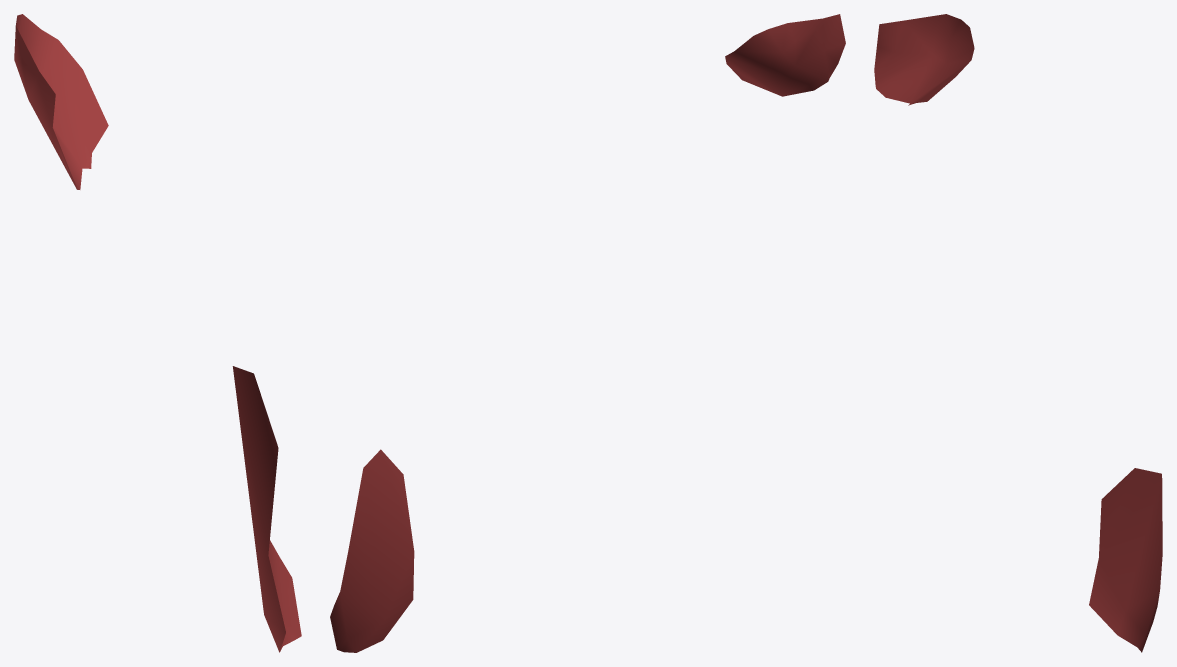
Rendered from longissimus-thoracis-muscle-e2r.glb.
3 views of the same model, side by side, from view 1: azimuth 30°, elevation 25°; view 2: azimuth 150°, elevation 25°; view 3: azimuth 270°, elevation 25° (orthographic). The views are drawn at different scales.
Parts seen in each view (by area): view 1: Longissimus thoracis muscle.e2r; view 2: Longissimus thoracis muscle.e2r; view 3: Longissimus thoracis muscle.e2r.
Boxes of the visible parts, <box> form: Longissimus thoracis muscle.e2r: <box>14,14,301,652</box>; Longissimus thoracis muscle.e2r: <box>330,14,845,652</box>; Longissimus thoracis muscle.e2r: <box>874,14,1162,652</box>.
Size of the model in its own units: 0.0239 by 0.0409 by 0.0211.
